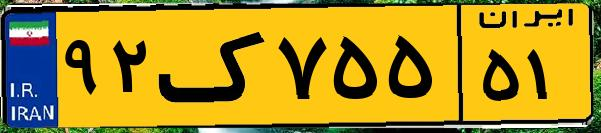1: (525, 38, 570, 115)
2: (110, 28, 158, 98)
5: (385, 28, 445, 110), (330, 28, 385, 110), (475, 38, 525, 113)
7: (270, 28, 330, 110)
9: (57, 26, 110, 100)
ک: (158, 12, 270, 120)
